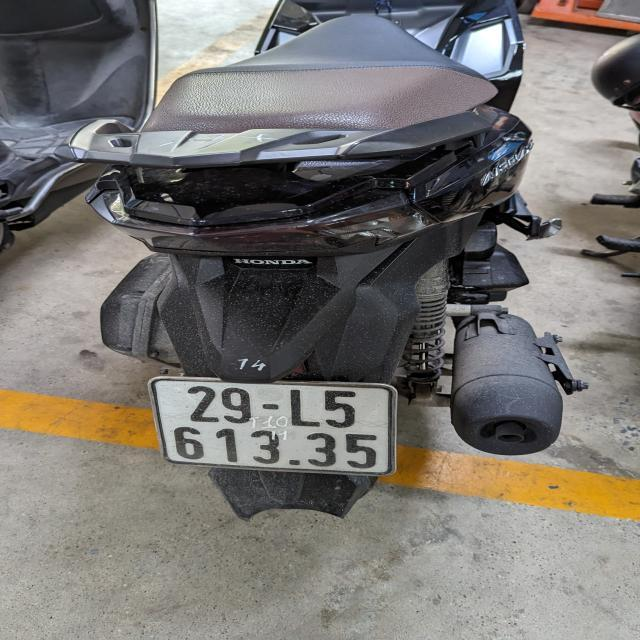license: (147, 374, 397, 476)
